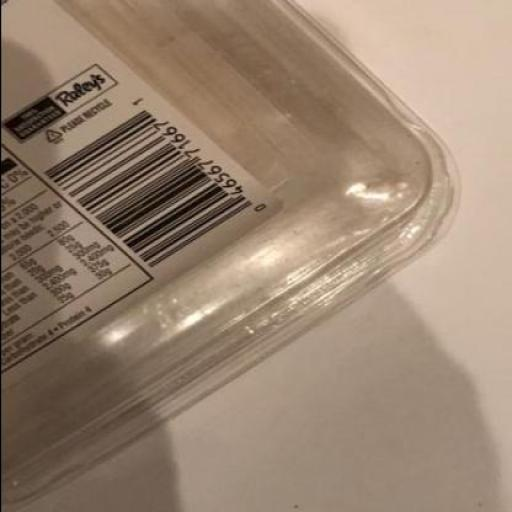plastic: (1, 0, 463, 511)
